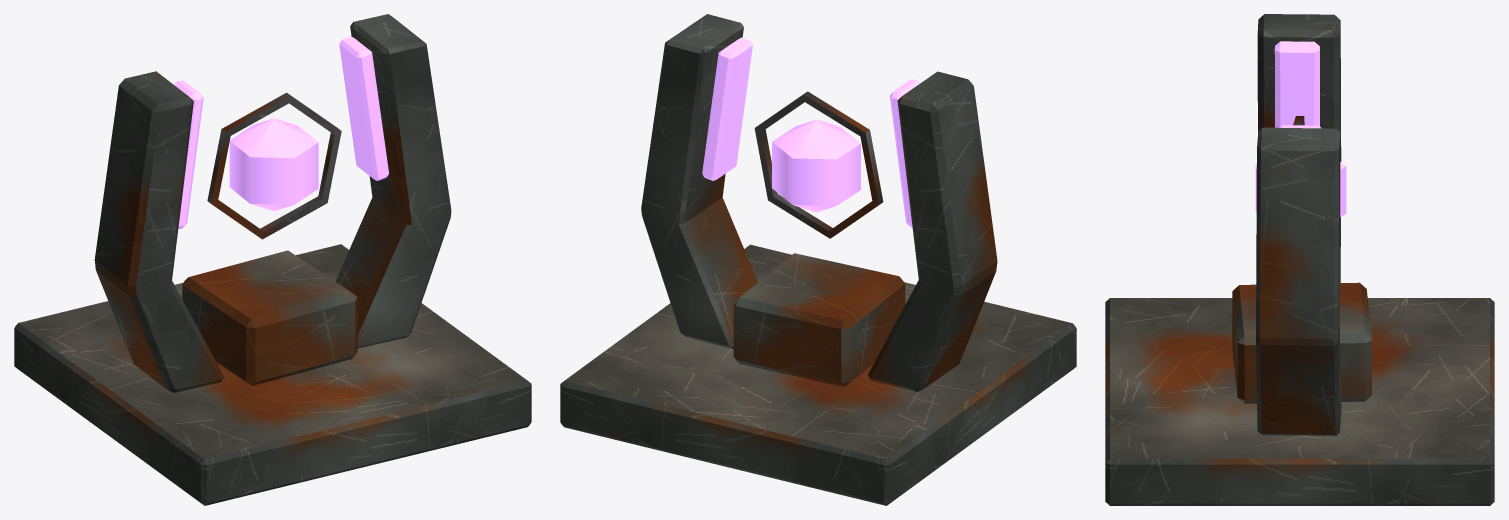
File: R4X_Blink_LOD1.glb
3 views of the same model, side by side, from view 1: azimuth 30°, elevation 25°; view 2: azimuth 150°, elevation 25°; view 3: azimuth 270°, elevation 25° (orthographic). The views are drawn at different scales.
Parts seen in each view (by area): view 1: R4X_Blink_LOD1; view 2: R4X_Blink_LOD1; view 3: R4X_Blink_LOD1.
Part boxes in pixels (x1,y1,x2,y2): R4X_Blink_LOD1: (14, 14, 531, 505); R4X_Blink_LOD1: (560, 14, 1076, 505); R4X_Blink_LOD1: (1105, 14, 1494, 505).
Bounding box in the file's own units: 0.52 × 0.51 × 0.52.
4 materials, 3 textured.
